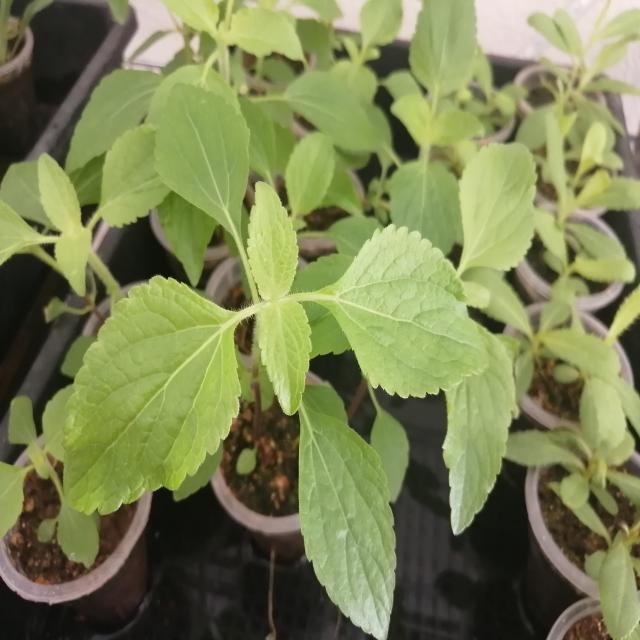billygoat_weed: (96, 108, 462, 600)
